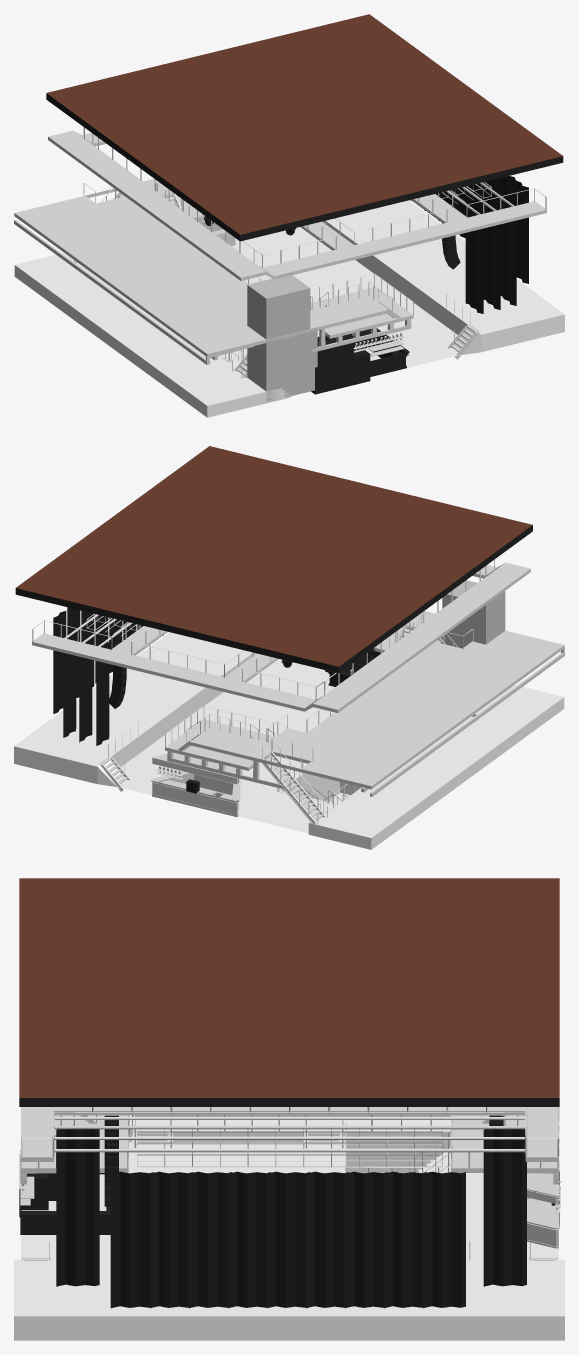
Rendered from Effenaar.glb.
3 renders of one model, top to bottom at view 1: azimuth 30°, elevation 25°; view 2: azimuth 150°, elevation 25°; view 3: azimuth 270°, elevation 25°, orthographic. The views are drawn at different scales.
Visible parts, largest first — view 1: Plane.005, Cube.005, Cube, BackPodium, Cube.003, Plane, Bar, Plane.008, Plane.007, Cube.012, Plane.004, Bar.001 (+3 smaller); view 2: Plane.005, Cube.005, Cube, BackPodium, Plane, Cube.003, Plane.008, Cube.006, Plane.007, Bar, Plane.006, Plane.004 (+5 smaller); view 3: Plane.005, Plane.007, Cube, Plane.008, Plane, Cube.003, BackPodium, Cube.005, Cube.009, Cube.006, Cylinder.001, Cylinder.003 (+9 smaller).
Part boxes in pixels (bbox=[...]): Plane.005: bbox=[46, 14, 563, 241]; Cube.005: bbox=[14, 179, 413, 357]; Cube: bbox=[322, 200, 564, 354]; BackPodium: bbox=[14, 253, 291, 417]; Cube.003: bbox=[48, 130, 546, 280]; Plane: bbox=[219, 227, 460, 367]; Bar: bbox=[241, 275, 317, 401]; Plane.008: bbox=[465, 199, 516, 313]; Plane.007: bbox=[410, 176, 528, 283]; Cube.012: bbox=[311, 336, 370, 394]; Plane.004: bbox=[83, 127, 546, 267]; Bar.001: bbox=[317, 328, 409, 389]; Plane.005: bbox=[15, 446, 532, 673]; Cube.005: bbox=[165, 611, 564, 789]; Cube: bbox=[14, 632, 256, 786]; BackPodium: bbox=[308, 685, 564, 849]; Plane: bbox=[117, 659, 361, 833]; Cube.003: bbox=[32, 562, 530, 712]; Plane.008: bbox=[63, 632, 109, 745]; Cube.006: bbox=[150, 753, 240, 817]; Plane.007: bbox=[53, 607, 163, 713]; Bar: bbox=[436, 580, 505, 648]; Plane.006: bbox=[165, 614, 473, 824]; Plane.004: bbox=[32, 559, 494, 699]; Plane.005: bbox=[19, 878, 559, 1106]; Plane.007: bbox=[110, 1171, 465, 1308]; Cube: bbox=[14, 1259, 564, 1340]; Plane.008: bbox=[56, 1128, 526, 1286]; Plane: bbox=[21, 1142, 558, 1259]; Cube.003: bbox=[21, 1107, 558, 1161]; BackPodium: bbox=[128, 1115, 450, 1155]; Cube.005: bbox=[21, 1115, 558, 1172]; Cube.009: bbox=[137, 1148, 442, 1167]; Cube.006: bbox=[527, 1169, 559, 1249]; Cylinder.001: bbox=[54, 1126, 524, 1129]; Cylinder.003: bbox=[54, 1149, 524, 1152].
Bounding box in the file's own units: 17.04 × 10.27 × 16.4.
